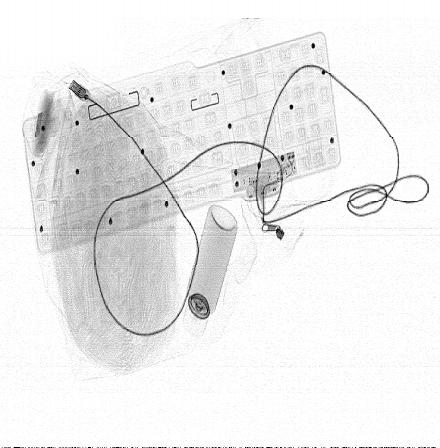Sprayer: (183, 205, 237, 337)
